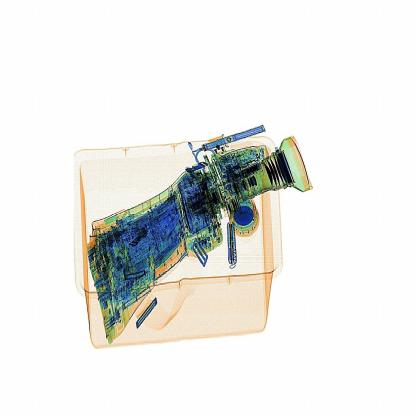scissors: (218, 209, 251, 274)
